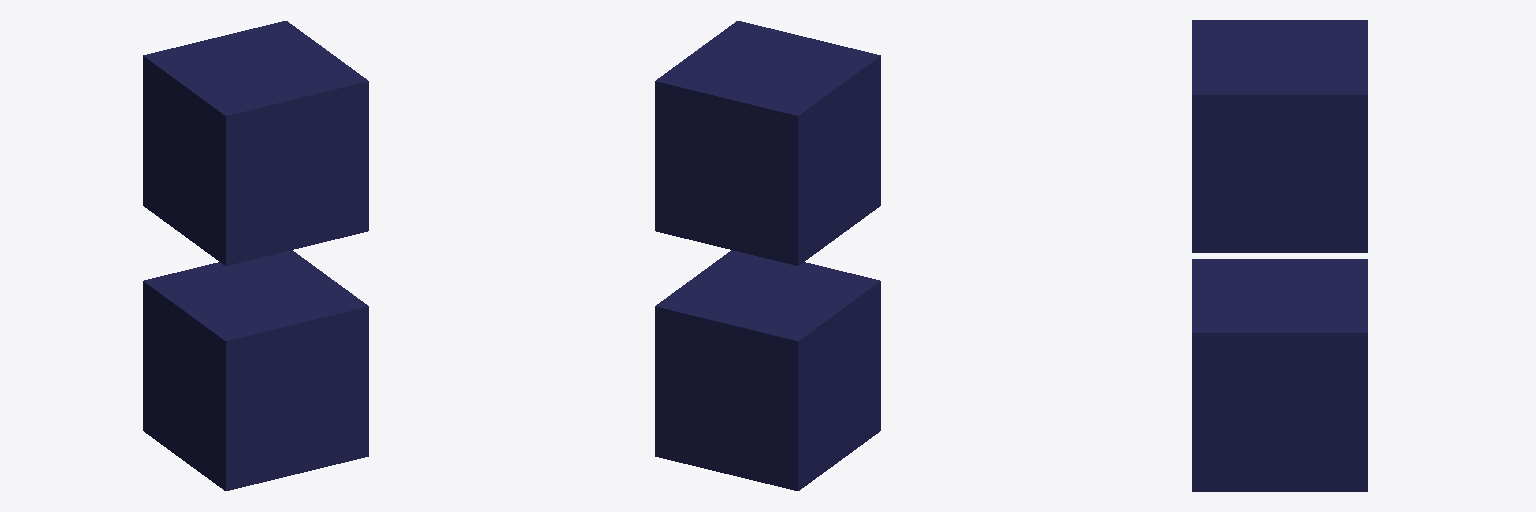
The robot description file, URDF, robot "boxes":
<robot name="boxes">

  <link name="box1">
		<visual>
		    <origin xyz="0 0 0.5" rpy="0 0 0"/>
			<geometry>
				<box size="1 1 1"/>
			</geometry>
			<material name="anotherOne">
	       		<color rgba="0.2 0.2 0.4 0.8"/>
	     	</material>
		</visual>
        <collision>
          <geometry>
				<box size="1 1 1"/>
          </geometry>
        </collision>
        <inertial>
          <mass value="1.5"/>
        <inertia ixx=".50" ixy="0.0" ixz="0" iyy=".5" iyz="0.0" izz=".5"/>
    </inertial>
  </link>

      <link name="box2">
		<visual>
		    <origin xyz="0 0 1." rpy="0 0 0"/>
			<geometry>
				<box size="1 1 1"/>
			</geometry>
			<material name="anotherOne">
	       		<color rgba="0.2 0.2 0.4 0.8"/>
	     	</material>
		</visual>
        <collision>
          <geometry>
				<box size="1 1 1"/>
          </geometry>
        </collision>
        <inertial>
          <mass value="1.5"/>
        <inertia ixx=".50" ixy="0.0" ixz="0" iyy=".5" iyz="0.0" izz=".5"/>
    </inertial>
  </link>
  
<joint name="box_link" type="fixed">
        <origin xyz="0 0 1" rpy="0 0 0"/>
       <parent link="box1"/>
       <child link="box2"/>
    </joint>
</robot>

--- Facts derived from the render (not from the file) ---
3 views of the same robot in one strip: view 1: azimuth 30°, elevation 25°; view 2: azimuth 150°, elevation 25°; view 3: azimuth 270°, elevation 25° (orthographic).
Robot: boxes — 2 links, 1 joints (1 fixed); root link box1; default pose: every joint at zero.
Links seen in each view (by area): view 1: box2, box1; view 2: box2, box1; view 3: box1, box2.
Boxes of the visible links, x1=… form: box2: x1=143, y1=21, x2=368, y2=265; box1: x1=143, y1=250, x2=368, y2=490; box2: x1=655, y1=21, x2=880, y2=265; box1: x1=655, y1=250, x2=880, y2=490; box1: x1=1192, y1=259, x2=1367, y2=491; box2: x1=1192, y1=20, x2=1367, y2=252.
Size in the robot's own frame: 1 by 1 by 2.5 metres.
Geometry: primitives only (box / cylinder / sphere), no mesh files.